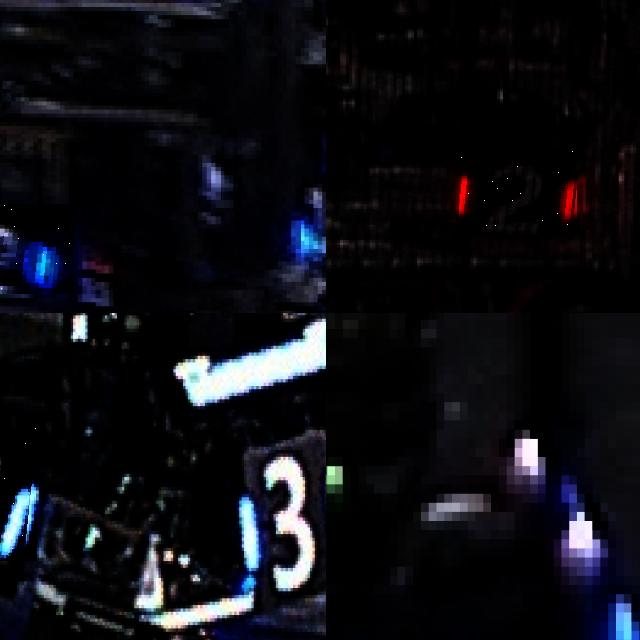B2: (0, 203, 73, 294)
B3: (229, 446, 326, 605), (0, 426, 36, 561)
R2: (459, 150, 580, 235)
